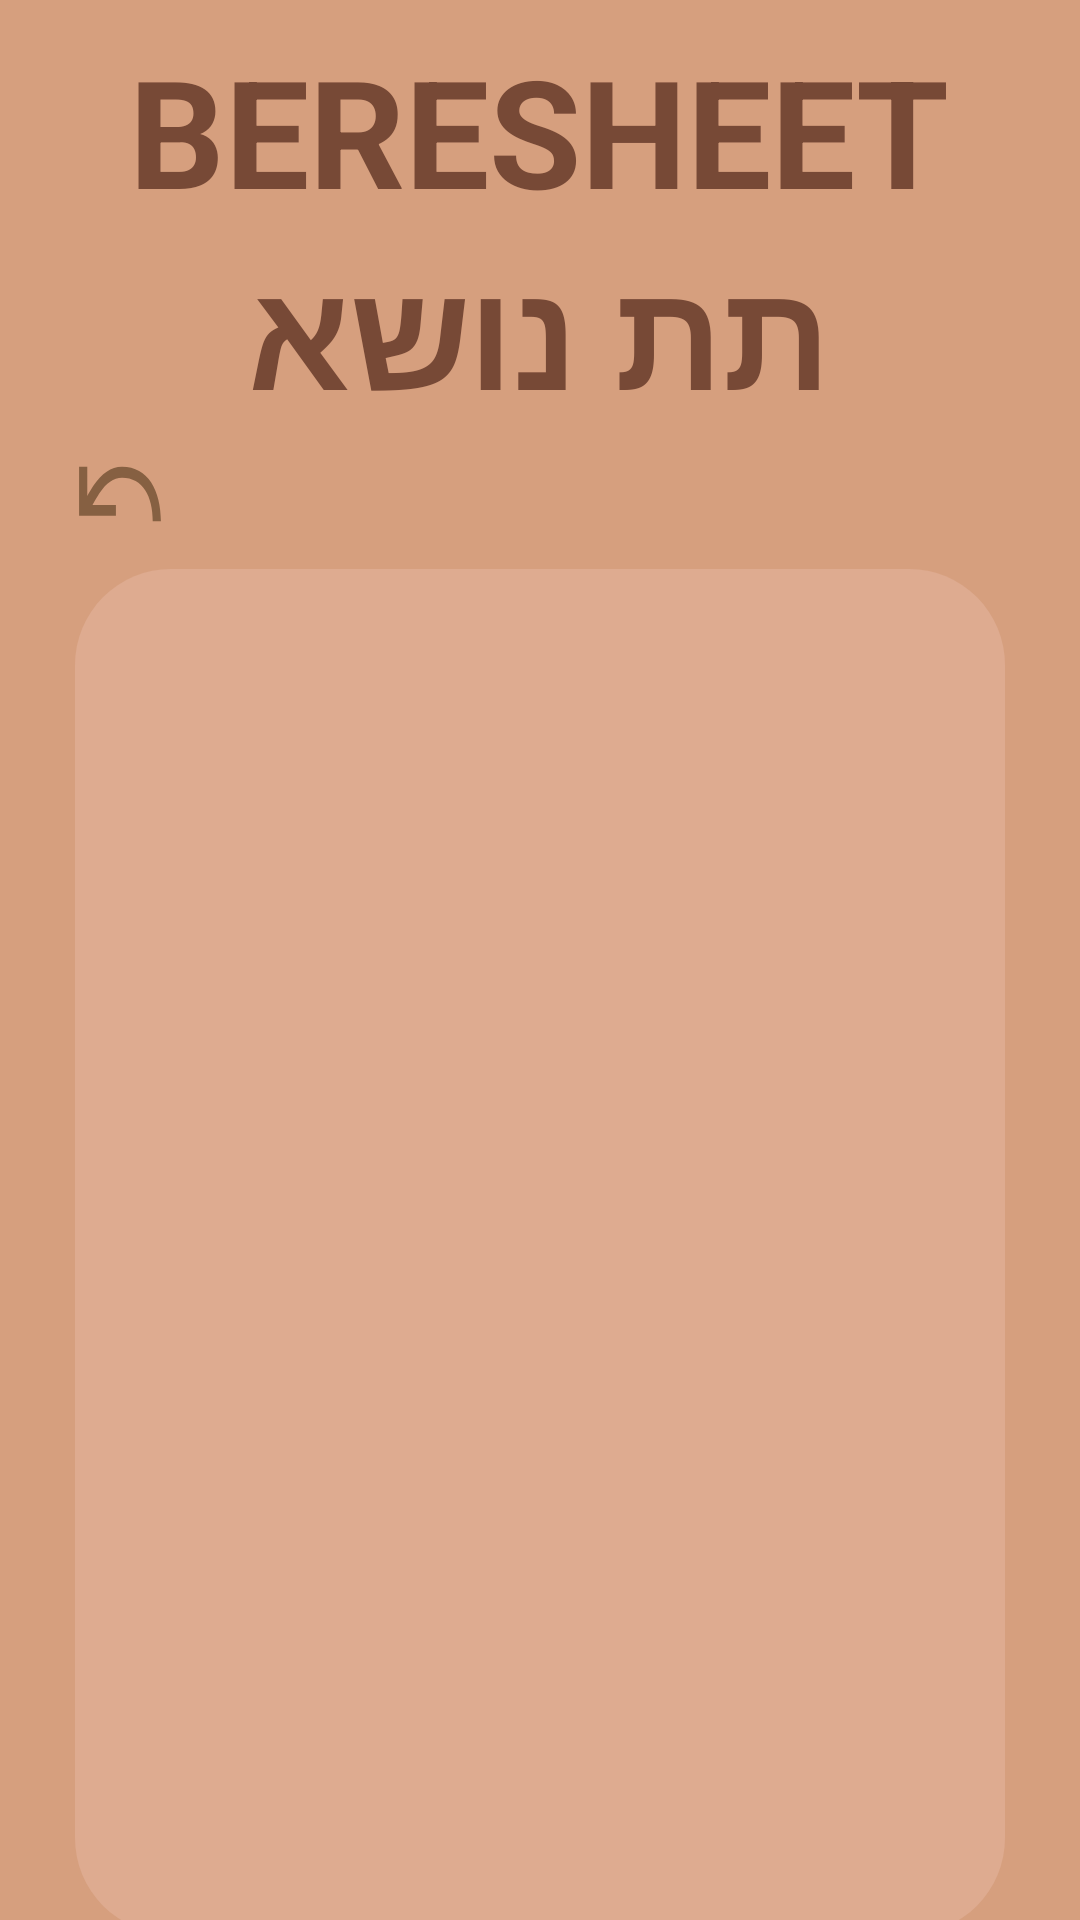

Where icons sit on this 1080 x 1920 app screen, as box=[x1, y1, x2, y2]:
arrow: box=[79, 467, 161, 521]
